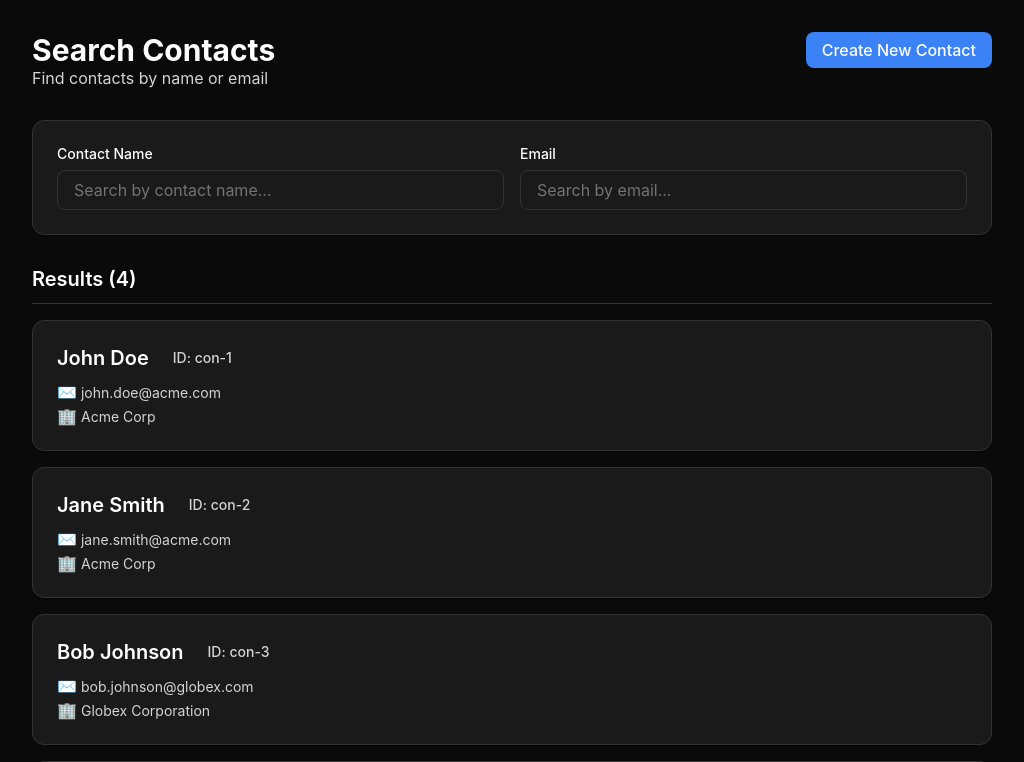
it: SearchContacts › filters contacts by name
Expected: the heading "Search Contacts" is shown, top-left (32, 32), bottom-right (275, 68)
Type "John" into the field with placeholder "Search by contact name...". click: point(280, 190)
box: top-left (57, 170), bottom-right (504, 210)
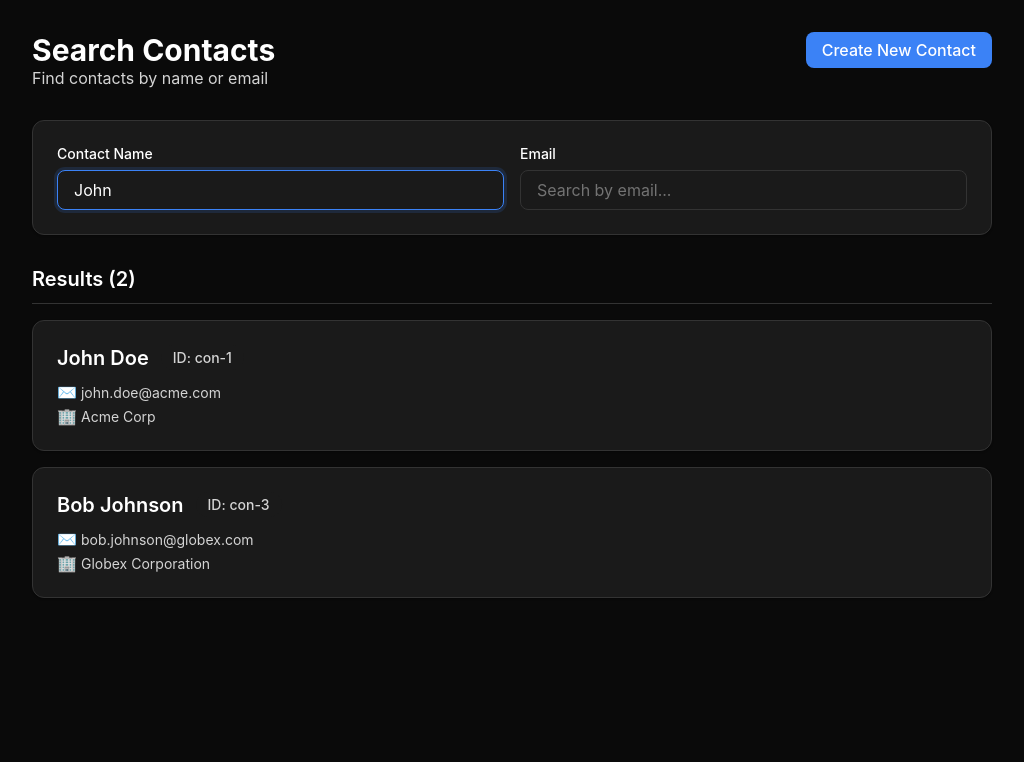
Expected: the heading "John Doe" is shown, top-left (57, 346), bottom-right (149, 370)
Now the heading "Results (2)" is shown, box top-left (32, 267), bottom-right (136, 291)
Now the button "Jane Smith" is gone
